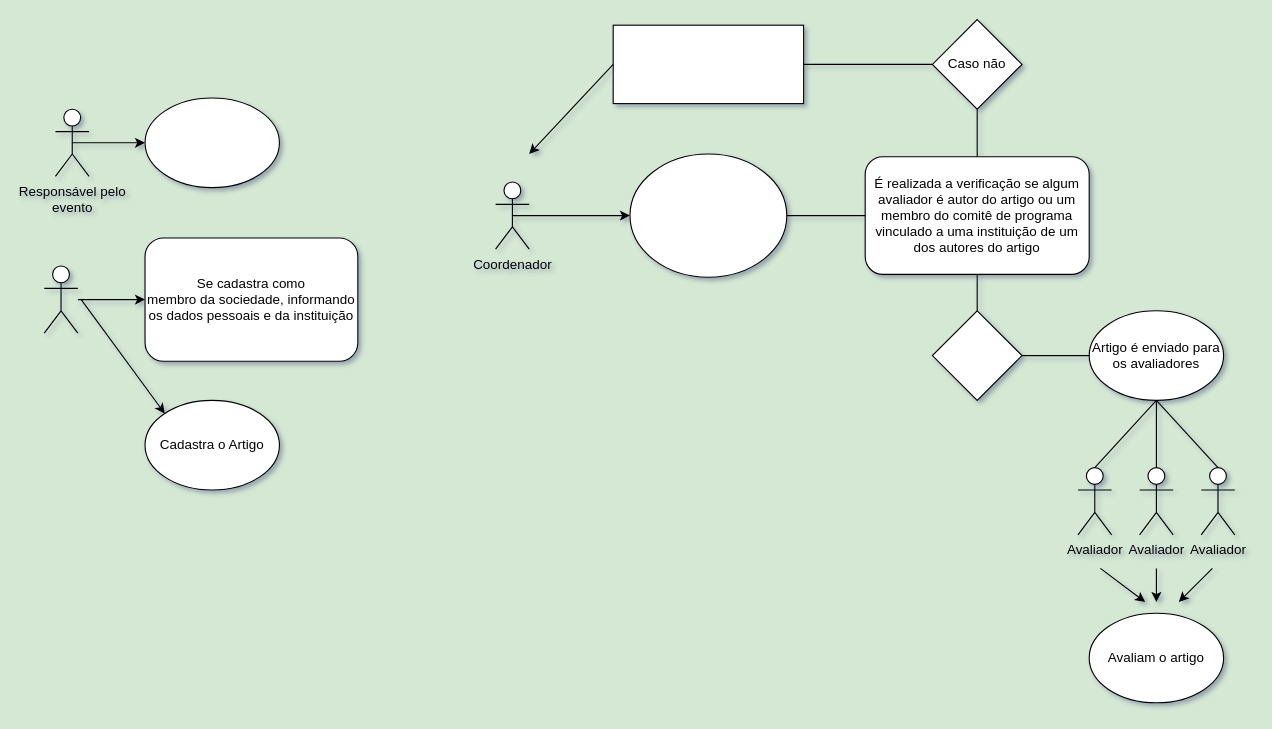
Image size: 1272x729. Some labels were removed from this diagram. The shapes that lost their labels are listed below. From the top down, each one's centre as x and y in pixels, then its label:
point (708, 64): O coordenador recebe uma notificação para escolher outro avaliador
point (211, 142): Cadastra o evento informando os dados (local, data, etc)
point (708, 215): após os cadastros, o coordenador define o comitê de programa do evento.
point (60, 299): Usuário
point (976, 355): Caso sim
